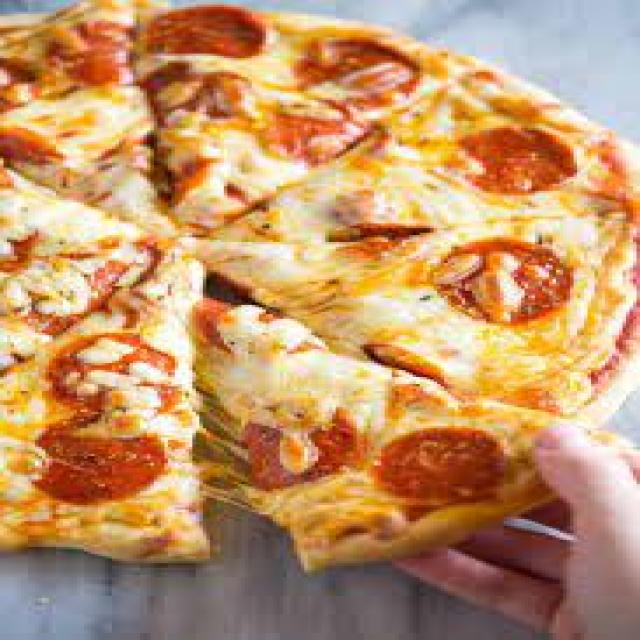Pizza: (3, 30, 640, 573)
